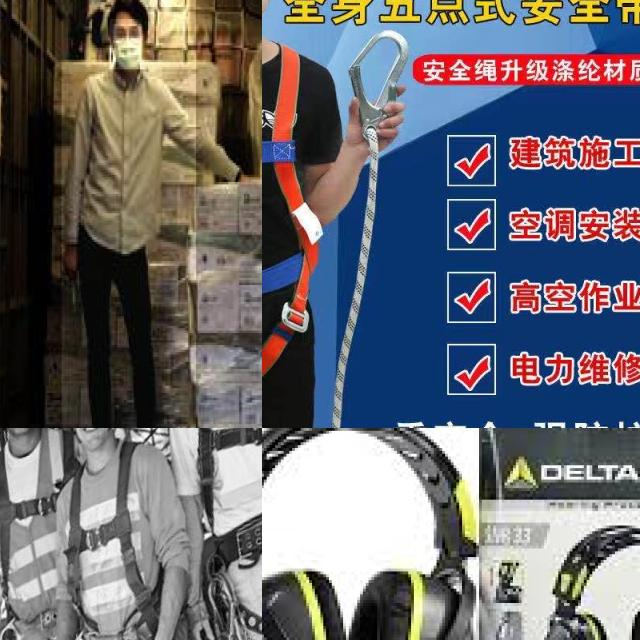Ear-protection: (361, 572, 475, 640), (262, 562, 340, 640), (535, 608, 612, 640)
Harness: (65, 442, 159, 636), (262, 40, 312, 396), (199, 428, 262, 526)
face_mask: (110, 19, 143, 72)
hand_noglove: (60, 235, 81, 282)
head_nohelmet: (110, 0, 151, 24)
person: (61, 0, 197, 428)
